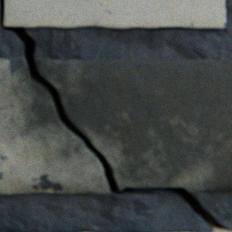brick: (4, 0, 224, 27)
broken_brick: (34, 57, 231, 191), (0, 56, 109, 193)
crack: (0, 0, 231, 231)
